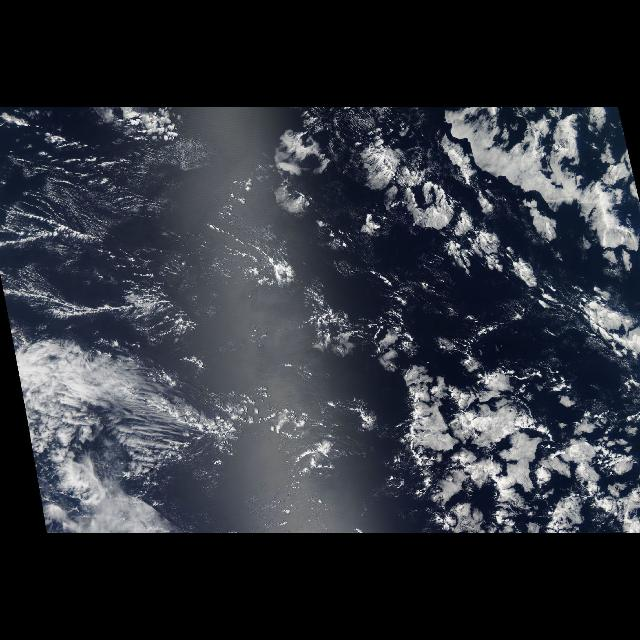Flower: (347, 132, 627, 284), (390, 360, 638, 522)
Sugar: (2, 139, 218, 339)
